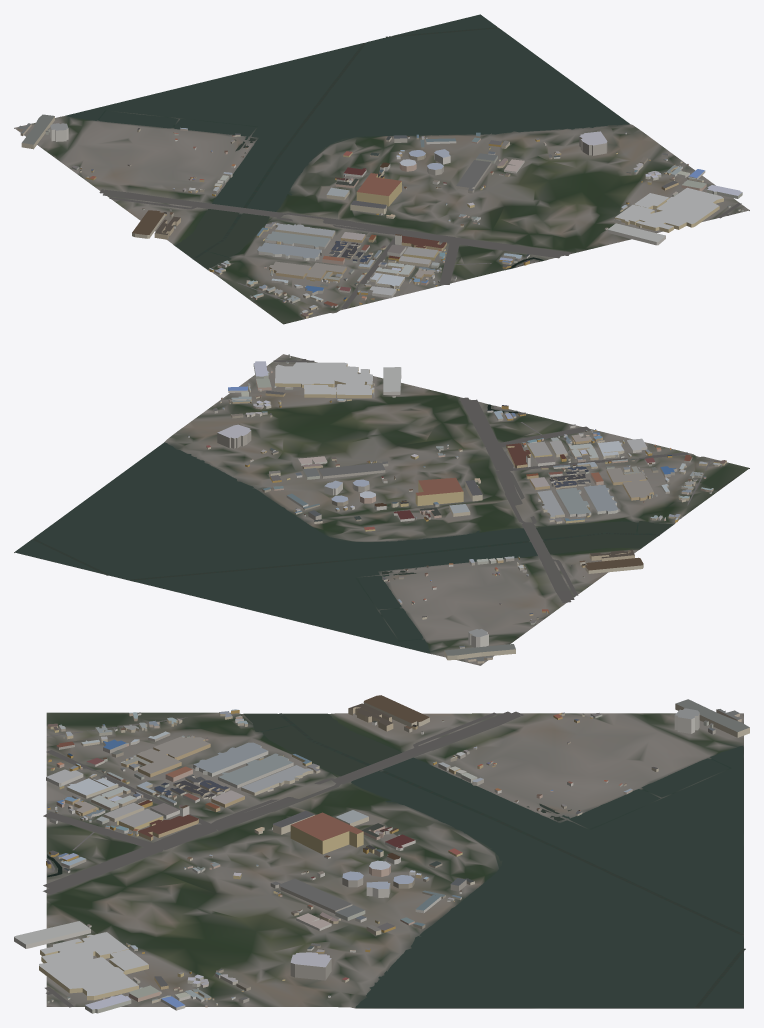
The picture shows the model from 3 angles, top to bottom: view 1: azimuth 30°, elevation 25°; view 2: azimuth 150°, elevation 25°; view 3: azimuth 270°, elevation 25°; orthographic projection. The views are drawn at different scales.
Visible parts, largest first — view 1: ground, water, buildings, roads; view 2: ground, water, buildings, roads; view 3: ground, water, buildings, roads.
Part boxes in pixels (x1,y1,x2,y2): ground: (14,27,749,324); water: (65,14,629,269); buildings: (17,114,743,318); roads: (99,189,741,314); ground: (14,354,749,665); water: (15,404,673,653); buildings: (188,354,726,663); roads: (273,359,711,602); ground: (46,712,743,1008); water: (47,713,745,1007); buildings: (14,695,749,1013); roads: (43,711,523,1007).
Bounding box in the file's own units: 1498 × 36.58 × 1478.
